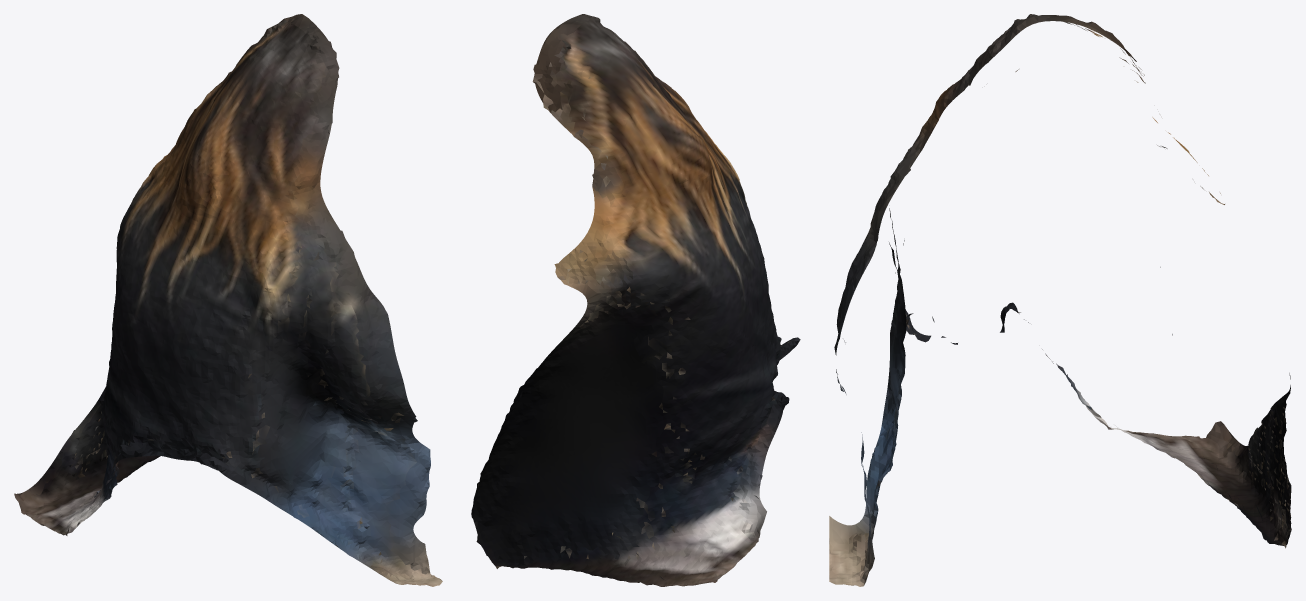
3 views of the same model, side by side, from view 1: azimuth 30°, elevation 25°; view 2: azimuth 150°, elevation 25°; view 3: azimuth 270°, elevation 25° (orthographic). The views are drawn at different scales.
Bounding box in the file's own units: 0.4256 × 0.7957 × 0.6049.
Materials: 1 (1 with a texture image).
